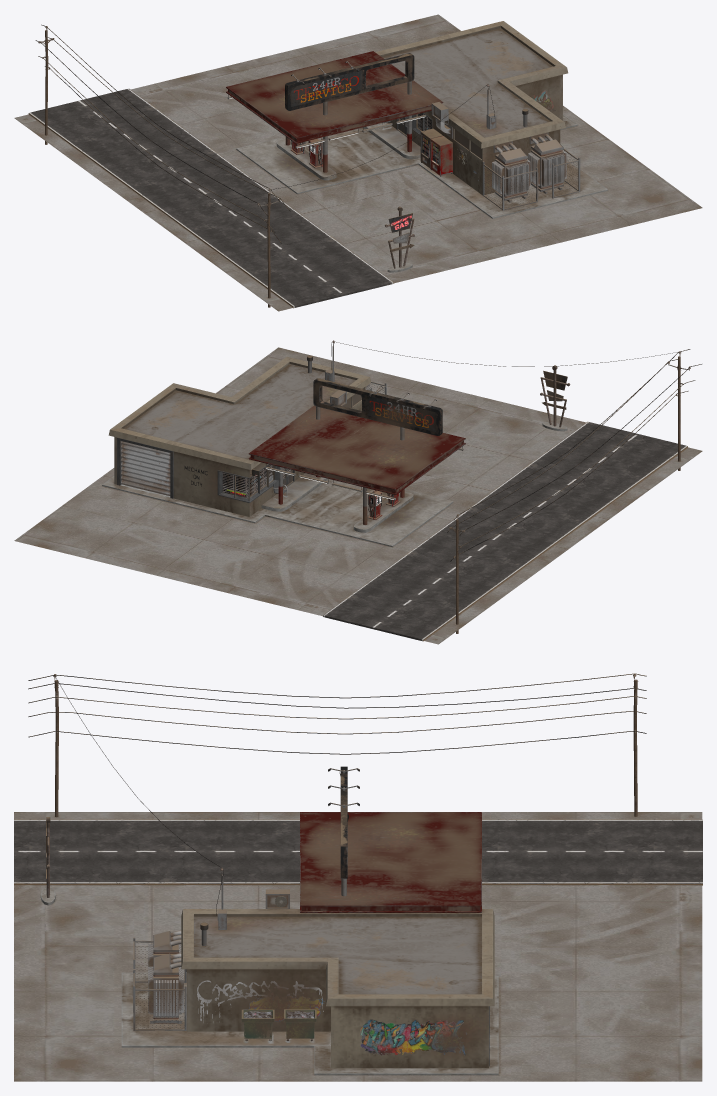
Rendered from gas_old.glb.
3 renders of one model, top to bottom at view 1: azimuth 30°, elevation 25°; view 2: azimuth 150°, elevation 25°; view 3: azimuth 270°, elevation 25°, orthographic. The views are drawn at different scales.
Visible parts, largest first — view 1: GROUND_LOW_POLY, ROAD_LOW_POLY, STATION_LOW_POLY, ROOF_LOW_POLY_LOW_POLY, FLOOR_LOW_POLY, BILLBOARD_LOW_POLY, TEXT_LOW_POLY, BASE_LOW_POLY, CABLE_LOW_POLY, GENERATOR_FRIZE_LOW_POLY, GENERATOR_FRIZE_2_LOW_POLY, FENCE_LOW_POLY (+5 smaller); view 2: GROUND_LOW_POLY, ROAD_LOW_POLY, STATION_LOW_POLY, ROOF_LOW_POLY_LOW_POLY, FLOOR_LOW_POLY, GATE_LOW_POLY, BILLBOARD_LOW_POLY, BASE_LOW_POLY, TEXT_LOW_POLY, CABLE_LOW_POLY, WOOD_FRAME_LOW_POLY, JALOUSIE_LOW_POLY (+2 smaller); view 3: GROUND_LOW_POLY, STATION_LOW_POLY, ROAD_LOW_POLY, ROOF_LOW_POLY_LOW_POLY, FLOOR_LOW_POLY, TEXT_LOW_POLY, CABLE_LOW_POLY, GENERATOR_2_LOW_POLY, GENERATOR_FRIZE_2_LOW_POLY, TRASH_1_LOW_POLY, TRASH_2_LOW_POLY, BILLBOARD_LOW_POLY (+1 smaller).
Part boxes in pixels (box(x1,y1,x2,y2)): GROUND_LOW_POLY: box(14, 14, 702, 311); ROAD_LOW_POLY: box(28, 88, 393, 308); STATION_LOW_POLY: box(375, 21, 568, 194); ROOF_LOW_POLY_LOW_POLY: box(226, 51, 443, 143); FLOOR_LOW_POLY: box(236, 114, 607, 218); BILLBOARD_LOW_POLY: box(285, 53, 414, 110); TEXT_LOW_POLY: box(291, 70, 555, 181); BASE_LOW_POLY: box(276, 122, 420, 272); CABLE_LOW_POLY: box(35, 24, 290, 243); GENERATOR_FRIZE_LOW_POLY: box(492, 159, 530, 194); GENERATOR_FRIZE_2_LOW_POLY: box(528, 150, 566, 186); FENCE_LOW_POLY: box(482, 149, 580, 210); GROUND_LOW_POLY: box(14, 347, 702, 644); ROAD_LOW_POLY: box(323, 421, 687, 641); STATION_LOW_POLY: box(108, 356, 371, 516); ROOF_LOW_POLY_LOW_POLY: box(248, 405, 465, 494); FLOOR_LOW_POLY: box(102, 469, 453, 547); GATE_LOW_POLY: box(121, 441, 170, 495); BILLBOARD_LOW_POLY: box(313, 378, 442, 435); BASE_LOW_POLY: box(261, 422, 567, 532); TEXT_LOW_POLY: box(184, 395, 436, 497); CABLE_LOW_POLY: box(447, 349, 701, 561); WOOD_FRAME_LOW_POLY: box(117, 437, 294, 502); JALOUSIE_LOW_POLY: box(222, 464, 291, 498); GROUND_LOW_POLY: box(14, 812, 702, 1081); STATION_LOW_POLY: box(181, 909, 494, 1068); ROAD_LOW_POLY: box(14, 819, 702, 885); ROOF_LOW_POLY_LOW_POLY: box(300, 812, 481, 912); FLOOR_LOW_POLY: box(121, 972, 498, 1075); TEXT_LOW_POLY: box(197, 772, 467, 1055); CABLE_LOW_POLY: box(28, 673, 646, 754); GENERATOR_2_LOW_POLY: box(153, 953, 186, 1022); GENERATOR_FRIZE_2_LOW_POLY: box(148, 966, 183, 1015); TRASH_1_LOW_POLY: box(241, 1009, 274, 1040); TRASH_2_LOW_POLY: box(284, 1009, 316, 1040); BILLBOARD_LOW_POLY: box(340, 766, 347, 878).
Size of the model in its own units: 2581 by 681 by 2754.
4 materials, 4 textured.
